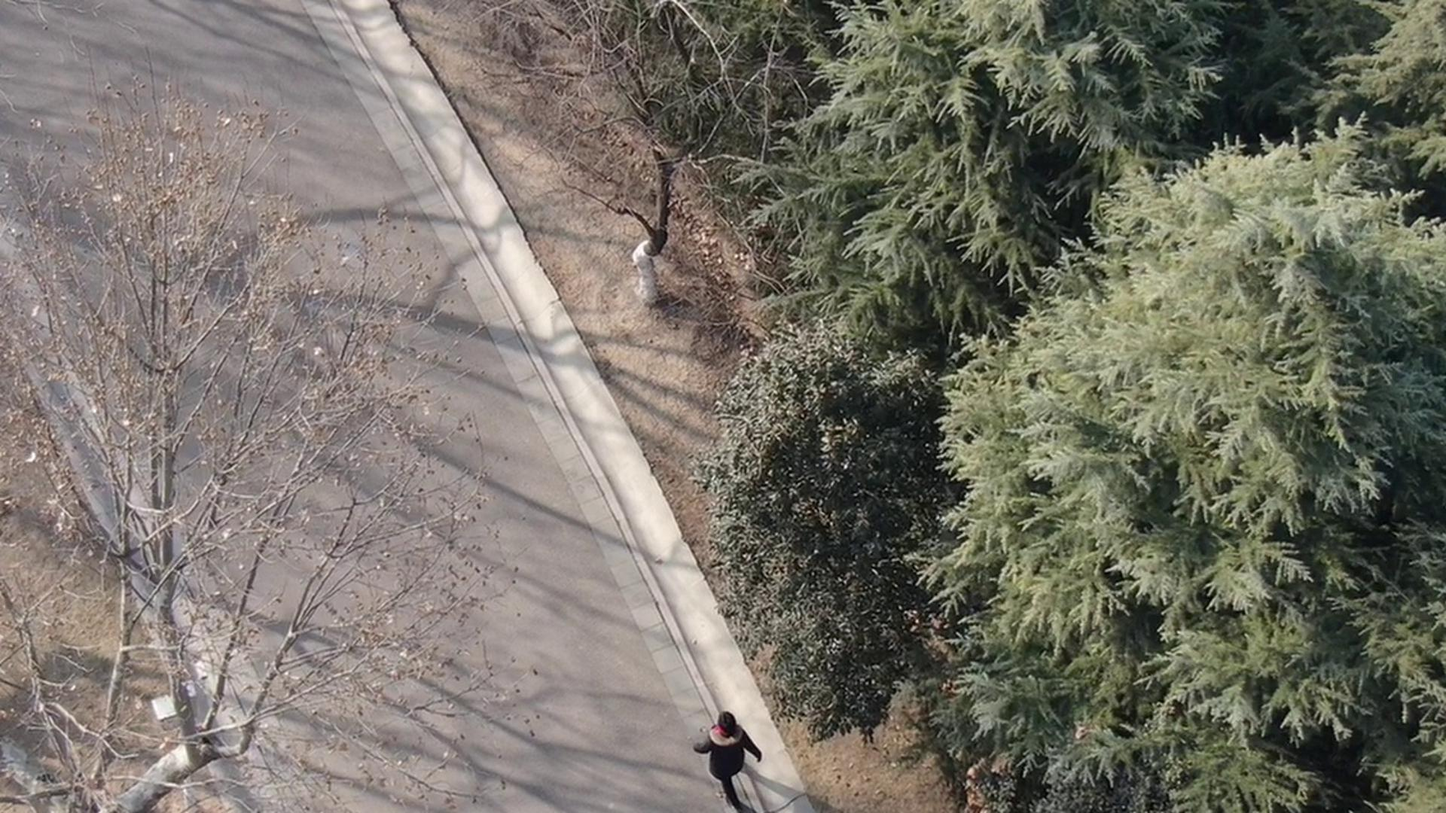human: (700, 717, 753, 808)
